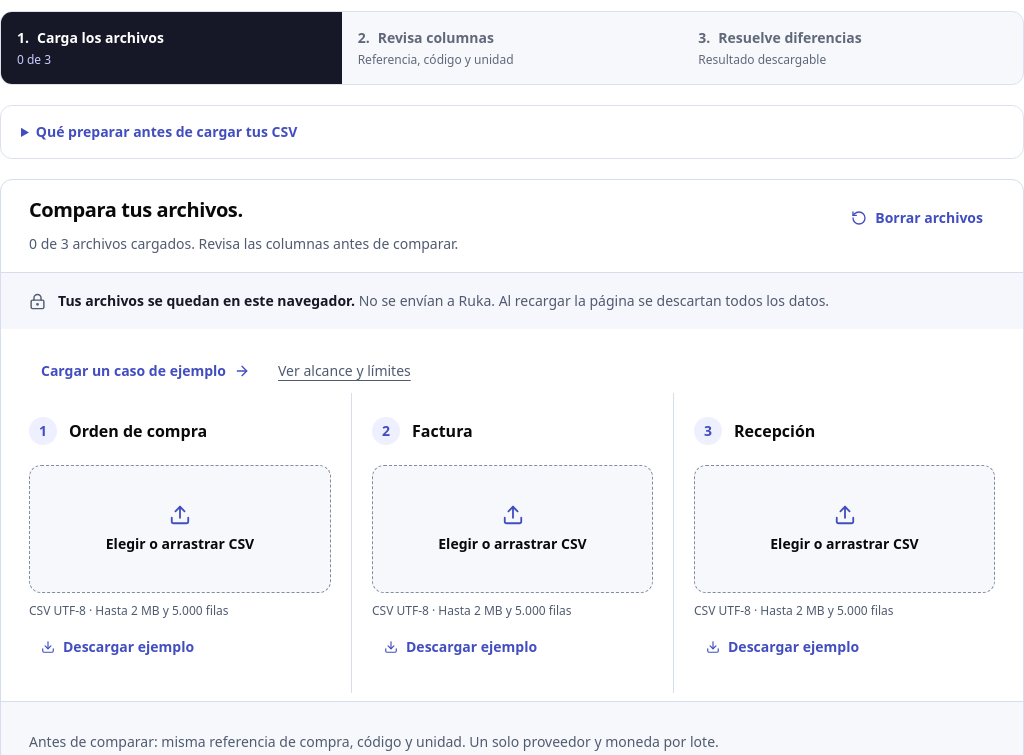
local-file reconciliation UI › performs example comparison without fetch or storage calls
The width and height of the screenshot is (1024, 755).
Step 1. Click the button "Cargar un caso de ejemplo" → (146,371), box [29,349,262,393]
(page scrolled)
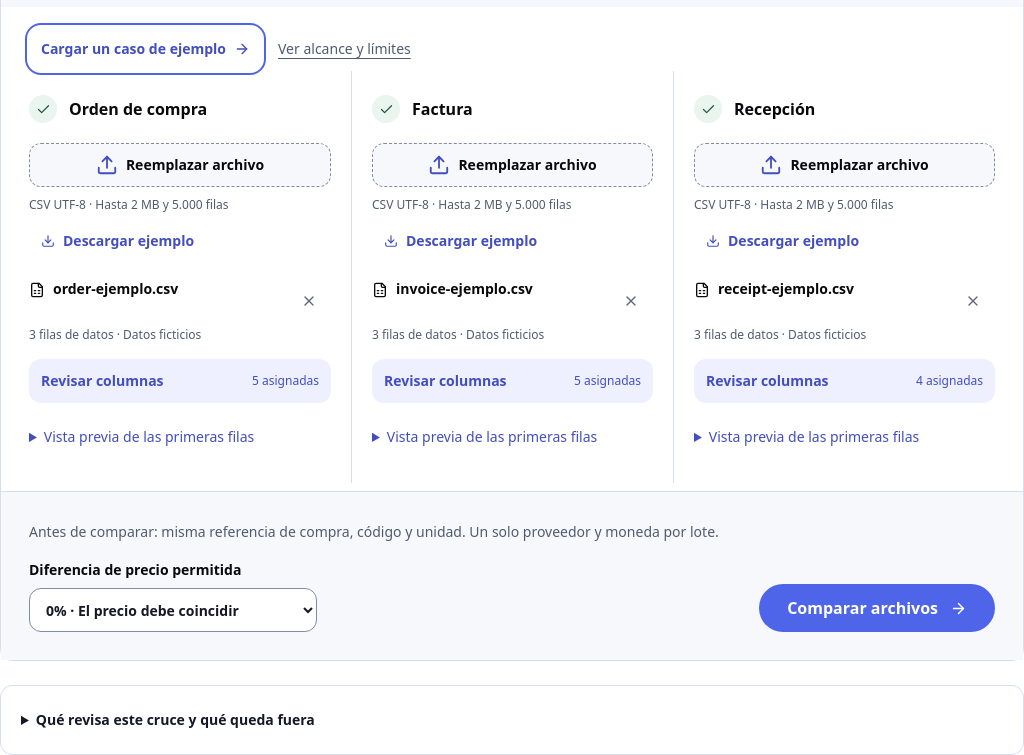
Step 2. Click the button "Comparar archivos" → (877,608), box [759,584,995,632]
(page scrolled)
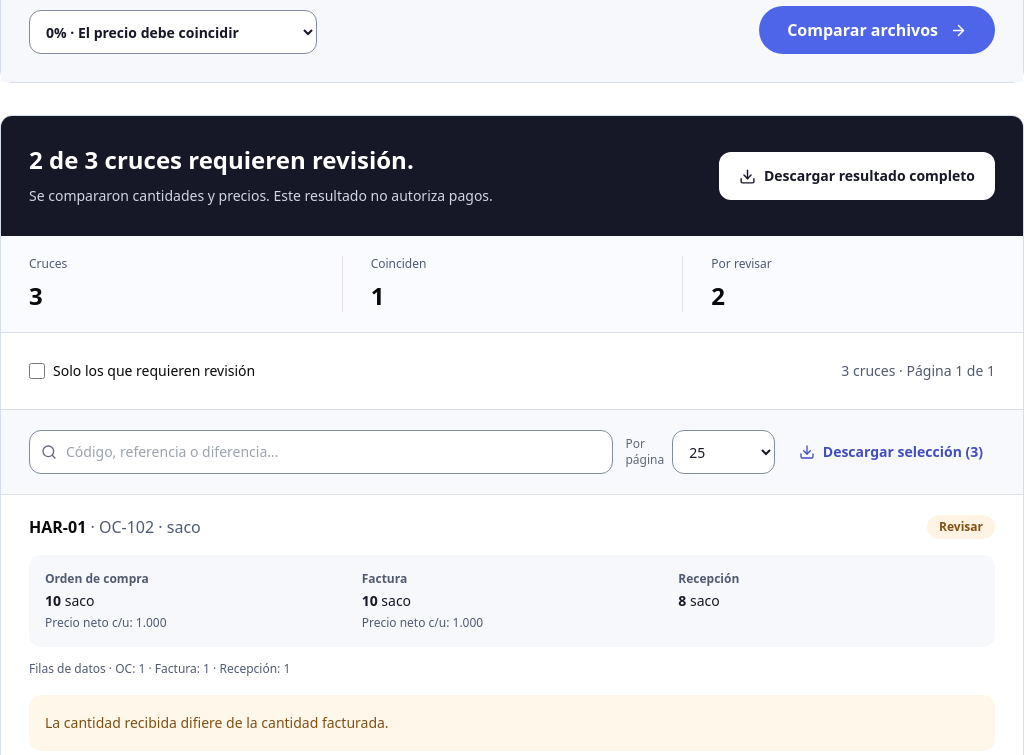
Step 3. Click the checkbox labelled "Solo los que requieren revisión" → (37,371), box [29,363,45,379]
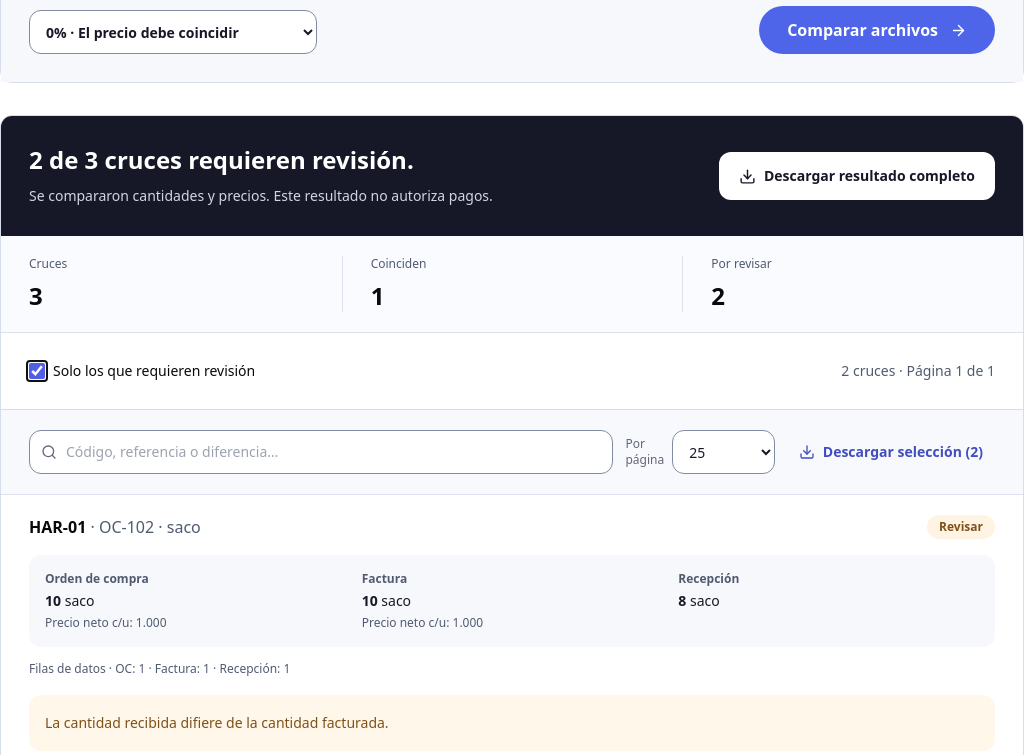
Check: the message shows "2 cruces", box [841,361,995,381]
